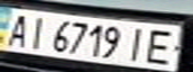1: (84, 21, 106, 57)
6: (45, 17, 72, 53)
7: (66, 19, 87, 55)
9: (100, 22, 127, 60)
A: (0, 11, 33, 47)
E: (139, 26, 184, 65)
I: (121, 25, 154, 62), (21, 13, 51, 51)
